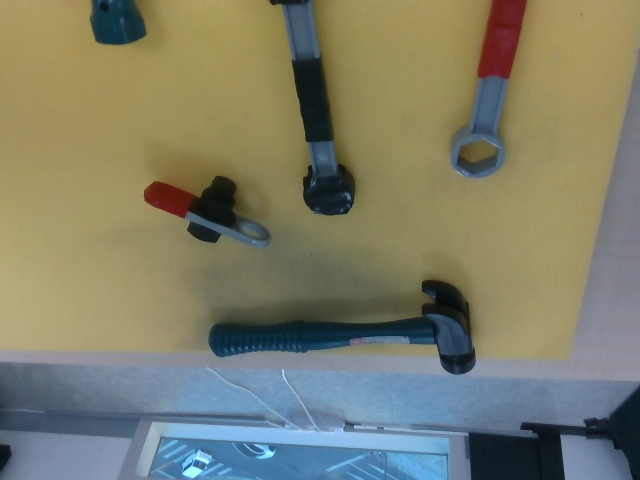part_1_good: (139, 171, 274, 252)
